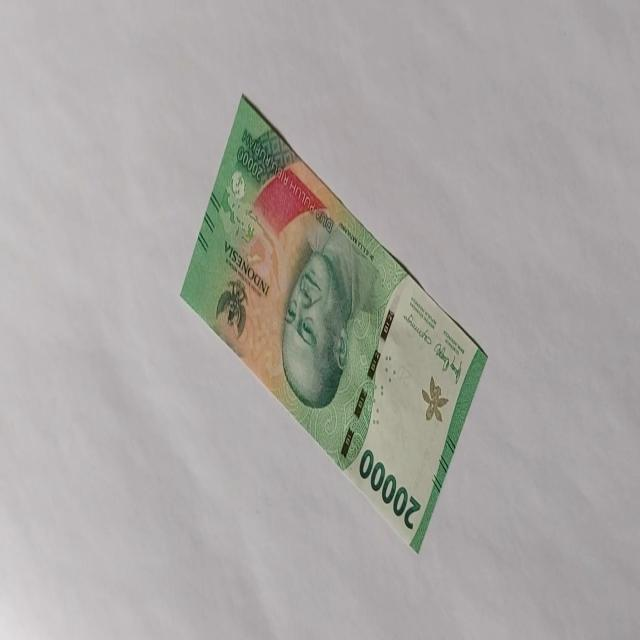dua puluh ribu rupiah: (179, 91, 489, 554), (358, 446, 421, 531)
